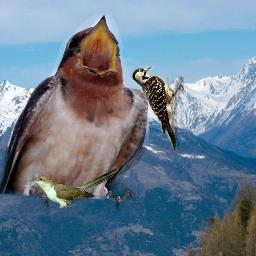Cuckoo: (29, 167, 119, 208)
Swallow: (0, 14, 149, 212)
Woodpecker: (132, 66, 184, 153)
